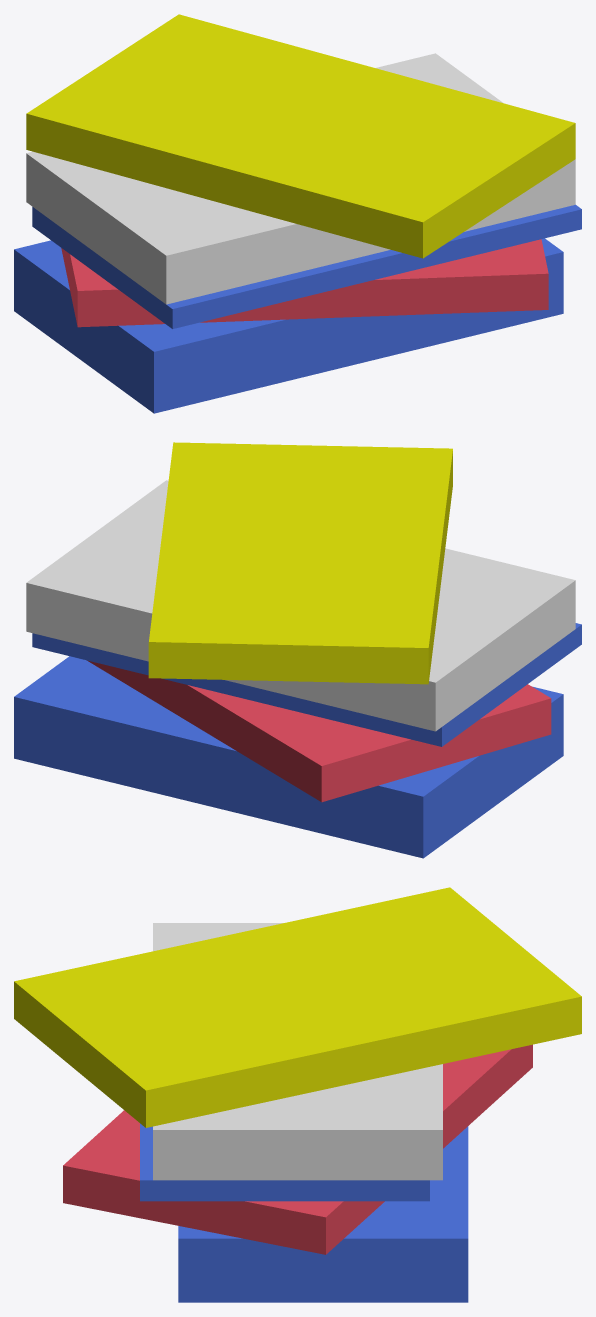
The model's file is Books2.fbx.
The picture shows the model from 3 angles, top to bottom: view 1: azimuth 30°, elevation 25°; view 2: azimuth 150°, elevation 25°; view 3: azimuth 270°, elevation 25°; orthographic projection. The views are drawn at different scales.
Parts seen in each view (by area): view 1: Books2; view 2: Books2; view 3: Books2.
Boxes of the visible parts, x1=… form: Books2: x1=14, y1=14, x2=581, y2=413; Books2: x1=14, y1=442, x2=581, y2=858; Books2: x1=14, y1=887, x2=581, y2=1302.
Bounding box in the file's own units: 69.61 × 28.52 × 69.8.
